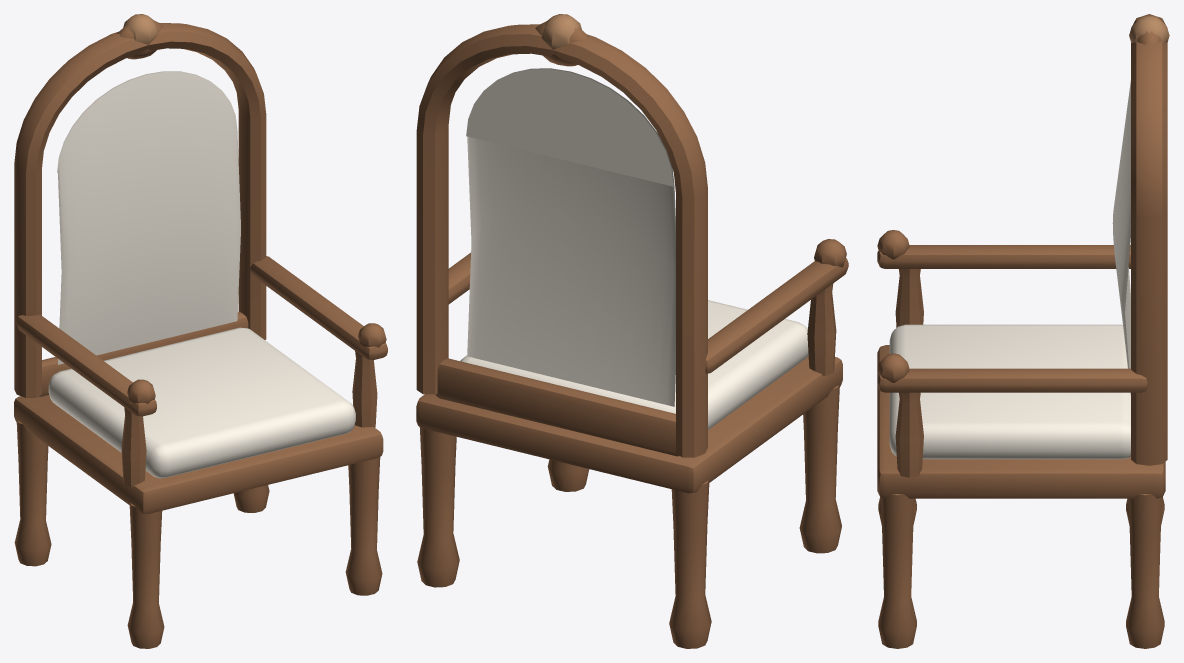
The model's file is throne-wood.glb.
3 views of the same model, side by side, from view 1: azimuth 30°, elevation 25°; view 2: azimuth 150°, elevation 25°; view 3: azimuth 270°, elevation 25° (orthographic). The views are drawn at different scales.
Parts seen in each view (by area): view 1: throne-wood; view 2: throne-wood; view 3: throne-wood.
Boxes of the visible parts, box(x1,y1,x2,y2) form: throne-wood: box(14, 14, 387, 648); throne-wood: box(416, 14, 848, 648); throne-wood: box(877, 14, 1169, 648).
Bounding box in the file's own units: 0.8 × 1.54 × 0.72.
